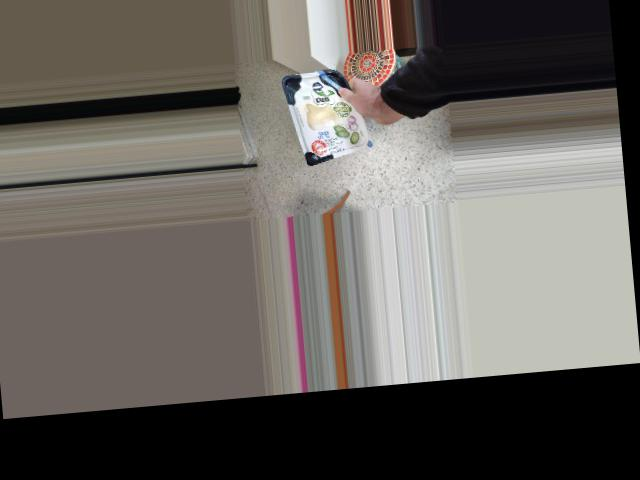cheese: (288, 60, 365, 168)
